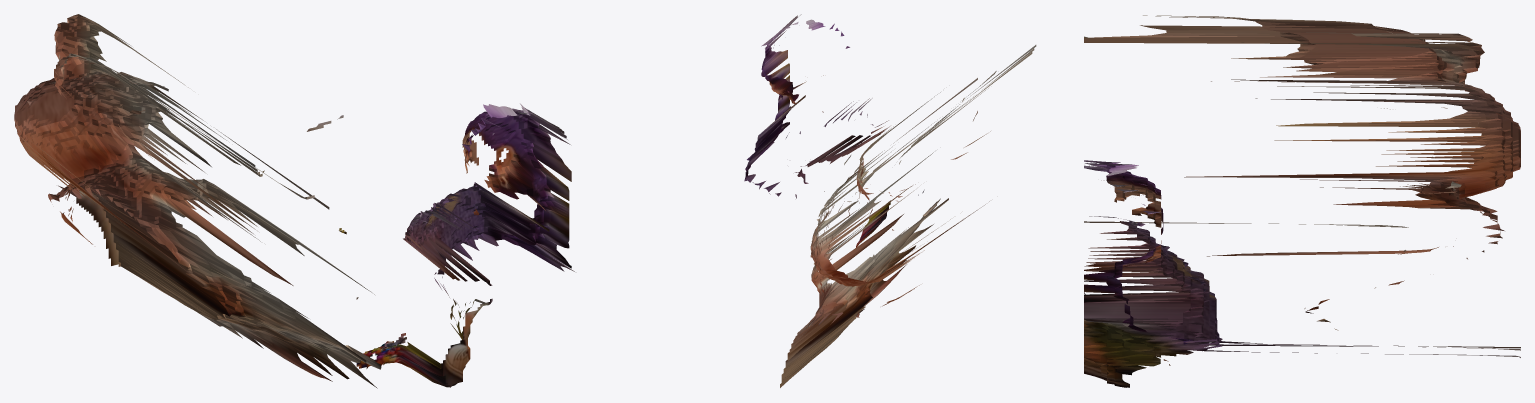
File: frame_00297.glb
The picture shows the model from 3 angles, left to right: view 1: azimuth 30°, elevation 25°; view 2: azimuth 150°, elevation 25°; view 3: azimuth 270°, elevation 25°; orthographic projection. The views are drawn at different scales.
Parts seen in each view (by area): view 1: geometry_0; view 2: geometry_0; view 3: geometry_0.
Part boxes in pixels (<box>): geometry_0: <box>14,14,574,388</box>; geometry_0: <box>744,14,1036,387</box>; geometry_0: <box>1084,15,1520,387</box>.
Bounding box in the file's own units: 0.1397 × 0.1134 × 0.16.
Materials: 1 (1 with a texture image).
